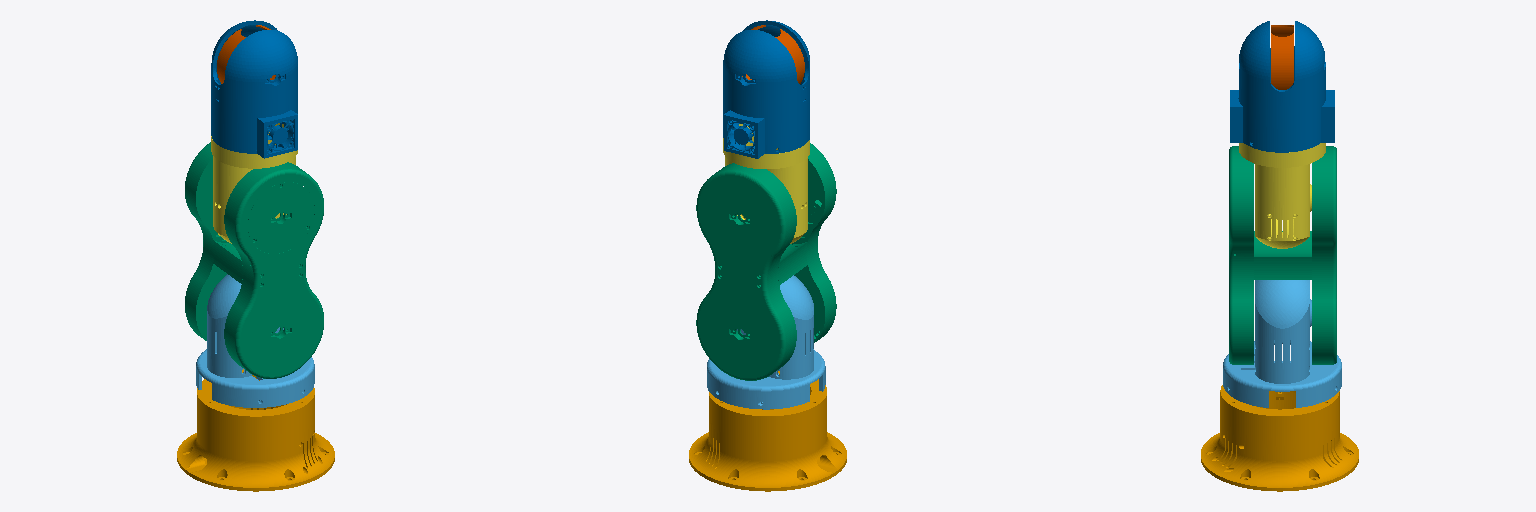
The robot description file, URDF, robot "thor":
<robot name="thor">
    <link name="base">
      <visual>
	<origin xyz="0 0 0" rpy="0 0 0"/>
	<geometry>
	  <mesh filename="package://thor_arm_description/meshes/base.stl" scale="0.001 0.001 0.001" />
	</geometry>
      </visual>
    </link>

    <joint name="art1_yaw" type="revolute">
      <origin xyz="0 0 0.104" rpy="0 0 0"/>
      <axis xyz="0 0 1"/>
      <parent link="base"/>
      <child link="art1"/>
      <limit lower="-3.1415" upper="3.1415" effort="4" velocity="1" />
    </joint>

    <link name="art1">
      <visual>
	<origin xyz="0 0 0" rpy="0 0 0" />
	<geometry>
	  <mesh filename="package://thor_arm_description/meshes/art1.stl" scale="0.001 0.001 0.001" />
	</geometry>
      </visual>
    </link>

    <joint name="art2_pitch" type="revolute">
        <origin xyz="0 -0.0318752 0.0974304" rpy="1.5707963267948966 -1.5707963267948966 0"/>
	<axis xyz="0 0 1"/>
	<parent link="art1"/>
        <child link="art2"/>
	<limit lower="-1.5707963267948966" upper="1.5707963267948966" effort="4" velocity="1" />
    </joint>

    <link name="art2">
      <visual>
	<origin xyz="0 0 0" rpy="0 0 0" />
	<geometry>
	  <mesh filename="package://thor_arm_description/meshes/art2.stl" scale="0.001 0.001 0.001" />
	</geometry>
      </visual>
    </link>

    <joint name="art3_pitch" type="revolute">
        <origin xyz="0.160 0 0" rpy="0 0 0"/>
	<axis xyz="0 0 1"/>
	<parent link="art2"/>
        <child link="art3"/>
	<limit lower="-1.5707963267948966" upper="1.5707963267948966" effort="4" velocity="1" />
    </joint>

    <link name="art3">
      <visual>
	<origin xyz="0 0 0" rpy="0 0 0" />
	<geometry>
	  <mesh filename="package://thor_arm_description/meshes/art3.stl" scale="0.001 0.001 0.001" />
	</geometry>
      </visual>
    </link>

    <joint name="art4_roll" type="revolute">
        <origin xyz="0.0885 0 -0.035" rpy="0 1.5707963267948966 0"/>
	<axis xyz="0 0 1"/>
	<parent link="art3"/>
        <child link="art4"/>
	<limit lower="-1.5707963267948966" upper="1.5707963267948966" effort="4" velocity="1" />
    </joint>

    <link name="art4">
      <visual>
	<origin xyz="0 0 0" rpy="0 0 0" />
	<geometry>
	  <mesh filename="package://thor_arm_description/meshes/art4.stl" scale="0.001 0.001 0.001" />
	</geometry>
      </visual>
    </link>

    <joint name="art5_pitch" type="revolute">
        <origin xyz="0 0 0.1" rpy="0 -1.5707963267948966 0"/>
	<axis xyz="0 0 1"/>
	<parent link="art4"/>
        <child link="art5"/>
	<limit lower="-1.5707963267948966" upper="1.5707963267948966" effort="4" velocity="1" />
    </joint>

    <link name="art5">
      <visual>
	<origin xyz="0 0 0" rpy="0 0 0" />
	<geometry>
	  <mesh filename="package://thor_arm_description/meshes/art5.stl" scale="0.001 0.001 0.001" />
	</geometry>
      </visual>
    </link>

</robot>

--- What the picture shows (computed from the rendered views, not written in the file) ---
The picture shows the robot from 3 angles, left to right: view 1: azimuth 30°, elevation 25°; view 2: azimuth 150°, elevation 25°; view 3: azimuth 270°, elevation 25°; orthographic projection.
Robot: thor — 6 links, 5 joints (5 revolute); root link base; default pose: every joint at zero.
Links seen in each view (by area): view 1: art2, base, art4, art1, art3, art5; view 2: art2, base, art4, art1, art3, art5; view 3: art2, base, art4, art1, art3, art5.
Boxes of the visible links, x1,y1,x2,y2 form: art2: [185, 142, 323, 378]; base: [177, 369, 334, 491]; art4: [211, 20, 297, 158]; art1: [196, 274, 314, 407]; art3: [211, 123, 297, 243]; art5: [217, 25, 275, 83]; art2: [696, 143, 836, 380]; base: [689, 371, 846, 491]; art4: [723, 20, 809, 158]; art1: [707, 275, 825, 409]; art3: [723, 124, 809, 243]; art5: [742, 25, 804, 83]; art2: [1229, 146, 1336, 364]; base: [1201, 385, 1358, 491]; art4: [1230, 21, 1334, 152]; art1: [1223, 280, 1341, 407]; art3: [1239, 143, 1325, 248]; art5: [1271, 25, 1293, 89].
Bounding box of the posed robot: 0.2 × 0.2 × 0.6027 m (x, y, z).
6 mesh visuals loaded from 6 distinct referenced files (6 binary STL).
